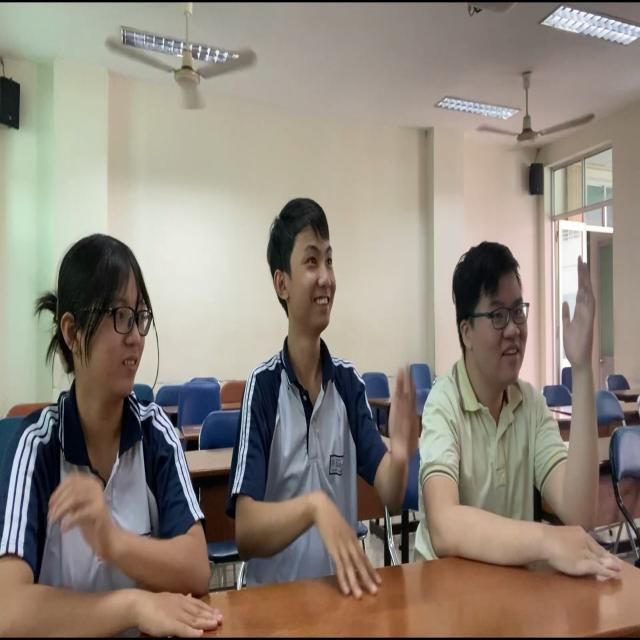raise_hand: (408, 228, 635, 579)
